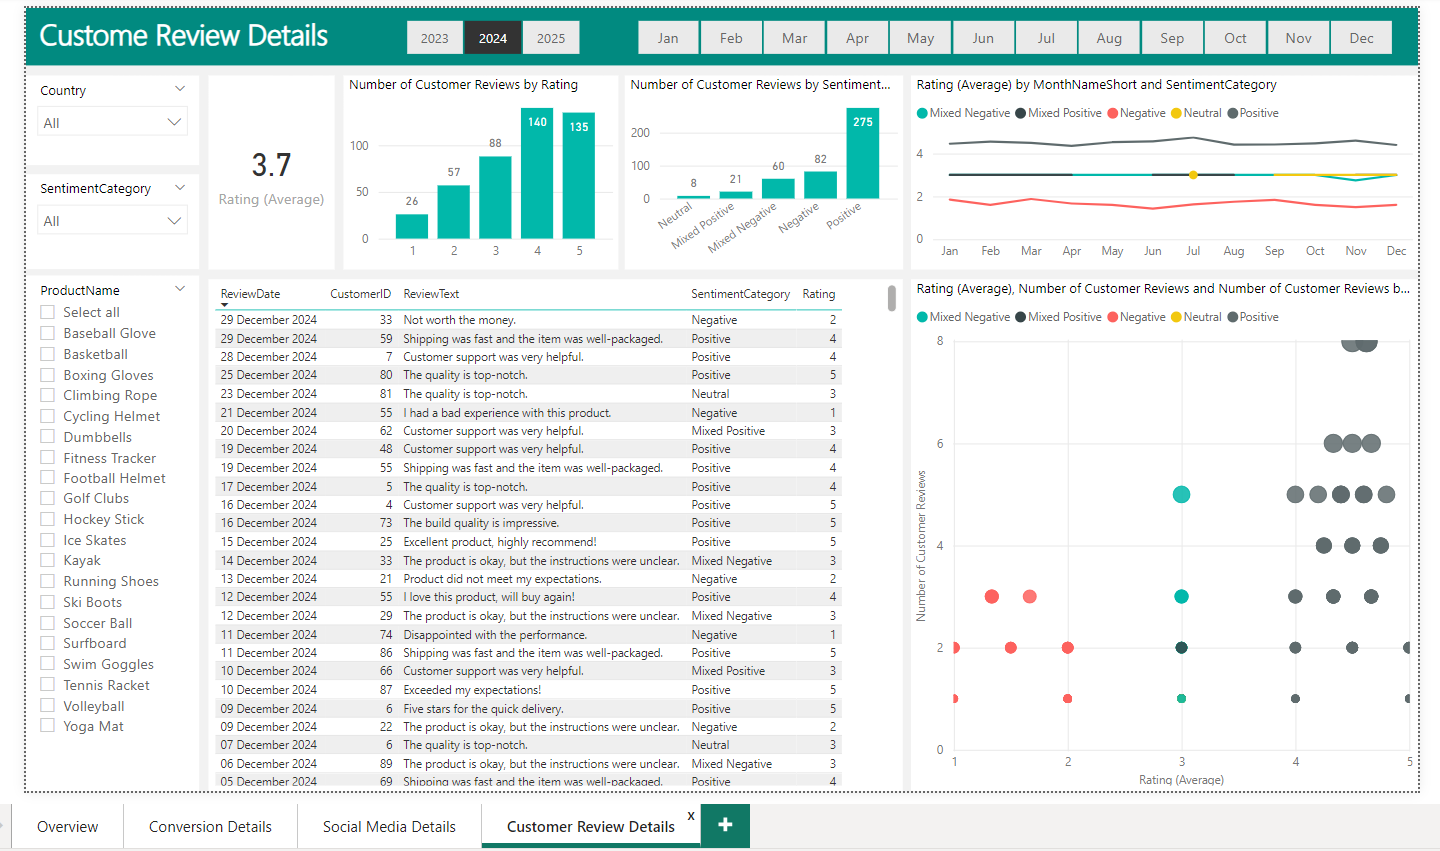

The page's visual inventory and layout, read from the dashboard file:
{"tool":"powerbi","page":{"name":"Customer Review Details","canvas":[1280,720],"ordinal":3},"visuals":[{"type":"textbox","box":[0,0,1280,52.6],"z":0},{"type":"slicer","fields":{"Values":["dim_products.ProductName"]},"box":[0,244.2,159.3,475.3],"z":1000},{"type":"card","fields":{"Values":["_Calculations.Rating (Average)"]},"box":[168.5,61.9,123.8,178.5],"z":2000},{"type":"slicer","fields":{"Values":["Calendar.MonthNameShort"]},"box":[536.8,4.1,743.2,44.4],"z":3000},{"type":"lineChart","fields":{"Category":["Calendar.MonthNameShort"],"Y":["_Calculations.Rating (Average)"],"Series":["fact_customer_reviews_with_sentiment.SentimentCategory"]},"box":[846.2,62,434.1,178.4],"z":4000},{"type":"slicer","fields":{"Values":["Calendar.Year"]},"box":[324.1,4.1,208.5,44.4],"z":5000},{"type":"tableEx","fields":{"Values":["fact_customer_reviews_with_sentiment.ReviewDate","fact_customer_reviews_with_sentiment.CustomerID","fact_customer_reviews_with_sentiment.ReviewText","fact_customer_reviews_with_sentiment.SentimentCategory","fact_customer_reviews_with_sentiment.Rating"]},"box":[168.5,249.5,668.4,470.8],"z":6000},{"type":"columnChart","fields":{"Category":["fact_customer_reviews_with_sentiment.Rating"],"Y":["_Calculations.Number of Customer Reviews"]},"box":[302.4,62,262.4,178.4],"z":7000},{"type":"columnChart","fields":{"Category":["fact_customer_reviews_with_sentiment.SentimentCategory"],"Y":["_Calculations.Number of Customer Reviews"]},"box":[574.3,62,262.4,178.4],"z":8000},{"type":"slicer","fields":{"Values":["dim_customers.Country"]},"box":[0,61.4,159.3,78.3],"z":9000},{"type":"slicer","fields":{"Values":["fact_customer_reviews_with_sentiment.SentimentCategory"]},"box":[0,152.8,159.3,78.3],"z":10000},{"type":"scatterChart","fields":{"Category":["dim_customers.CustomerID"],"Series":["fact_customer_reviews_with_sentiment.SentimentCategory"],"X":["_Calculations.Rating (Average)"],"Y":["_Calculations.Number of Customer Reviews"],"Size":["_Calculations.Number of Customer Reviews"]},"box":[846,249.5,434.4,470.8],"z":11000}]}

Visuals, with their boxes on the page's 1280x720 design canvas (x1, y1, x2, y2). These are canvas units, not pixel positions in the 1440x851 screenshot, which may show the page scaled, cropped or inside an application window:
textbox: [0, 0, 1280, 53]
slicer - dim_products.ProductName: [0, 244, 159, 720]
card - _Calculations.Rating (Average): [168, 62, 292, 240]
slicer - Calendar.MonthNameShort: [537, 4, 1280, 48]
lineChart - Calendar.MonthNameShort x _Calculations.Rating (Average): [846, 62, 1280, 240]
slicer - Calendar.Year: [324, 4, 533, 48]
tableEx - fact_customer_reviews_with_sentiment.ReviewDate x fact_customer_reviews_with_sentiment.CustomerID: [168, 250, 837, 720]
columnChart - fact_customer_reviews_with_sentiment.Rating x _Calculations.Number of Customer Reviews: [302, 62, 565, 240]
columnChart - fact_customer_reviews_with_sentiment.SentimentCategory x _Calculations.Number of Customer Reviews: [574, 62, 837, 240]
slicer - dim_customers.Country: [0, 61, 159, 140]
slicer - fact_customer_reviews_with_sentiment.SentimentCategory: [0, 153, 159, 231]
scatterChart - dim_customers.CustomerID x fact_customer_reviews_with_sentiment.SentimentCategory: [846, 250, 1280, 720]
